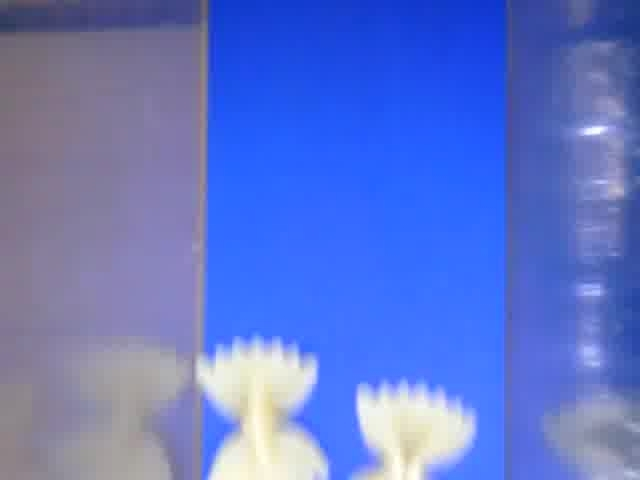farfalle: (195, 333, 330, 480), (350, 382, 476, 480)
